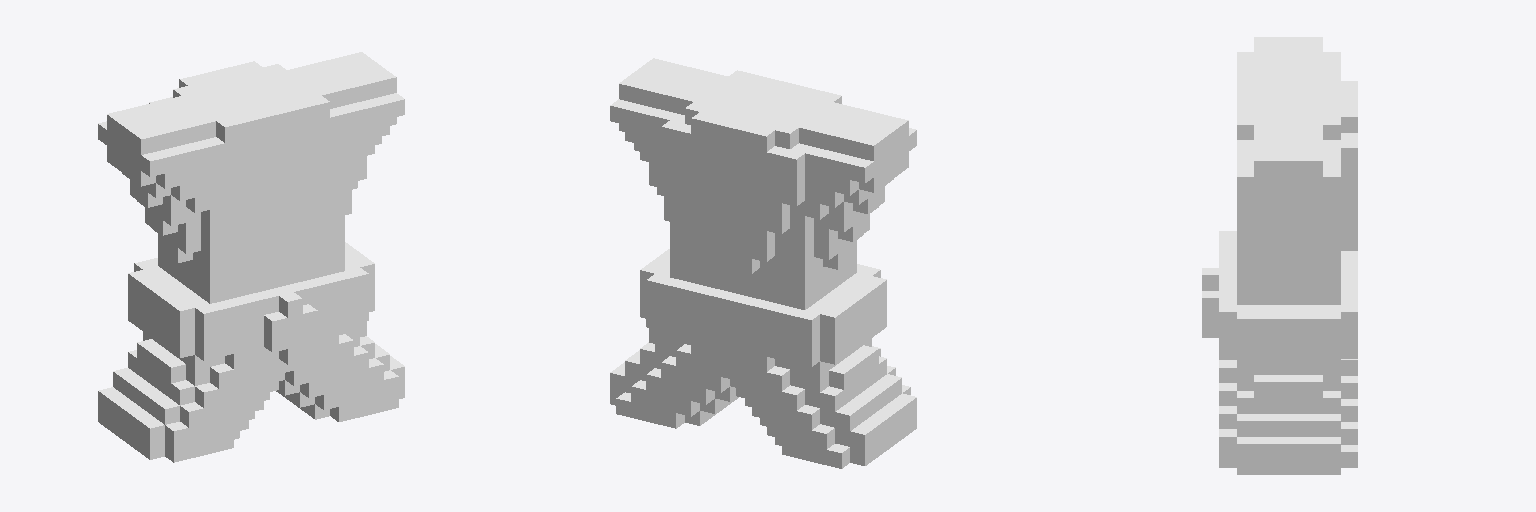
File: farmertorso.obj
3 renders of one model, left to right at view 1: azimuth 30°, elevation 25°; view 2: azimuth 150°, elevation 25°; view 3: azimuth 270°, elevation 25°, orthographic.
Parts seen in each view (by area): view 1: SamAsFarmer; view 2: SamAsFarmer; view 3: SamAsFarmer.
Boxes of the visible parts, <box> form: SamAsFarmer: <box>98,52,404,462</box>; SamAsFarmer: <box>610,58,916,468</box>; SamAsFarmer: <box>1202,37,1357,474</box>.
Bounding box in the file's own units: 17 × 20 × 9.